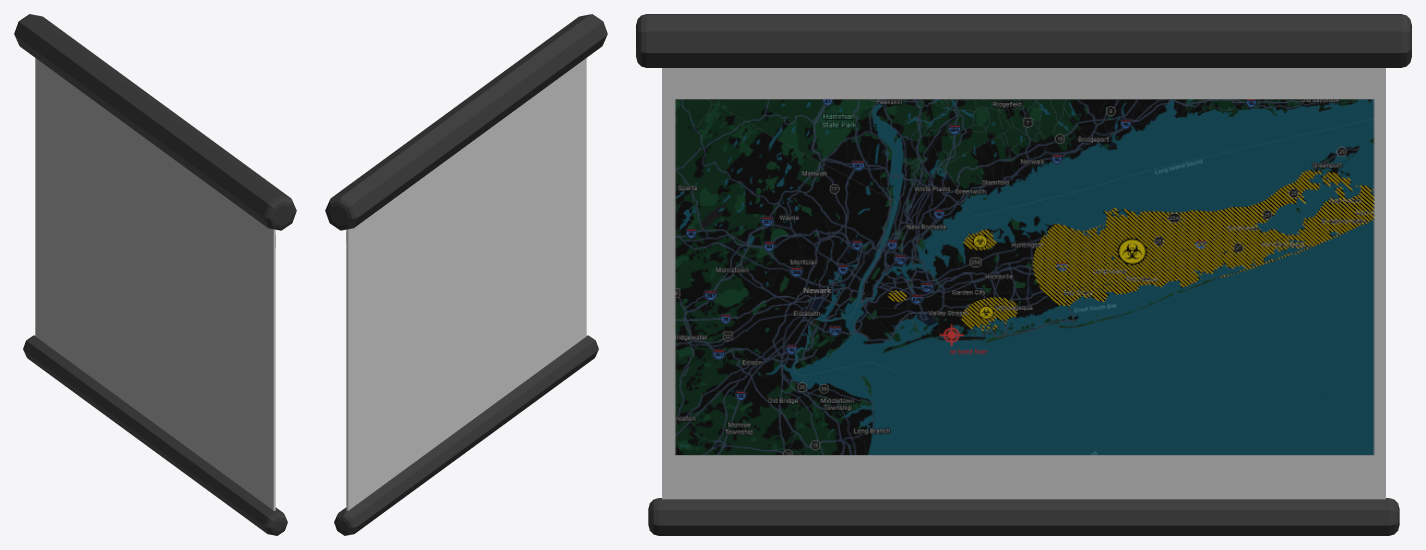
Rendered from ProjectorScreen.fbx.
3 renders of one model, left to right at view 1: azimuth 30°, elevation 25°; view 2: azimuth 150°, elevation 25°; view 3: azimuth 270°, elevation 25°, orthographic. The views are drawn at different scales.
Visible parts, largest first — view 1: ProjectorScreen; view 2: ProjectorScreen; view 3: ProjectorScreen.
Part boxes in pixels (<box>): ProjectorScreen: <box>14,14,296,535</box>; ProjectorScreen: <box>325,14,607,535</box>; ProjectorScreen: <box>636,14,1411,535</box>.
Size of the model in its own units: 56.37 by 563 by 761.
Materials: 2 (2 with a texture image).
